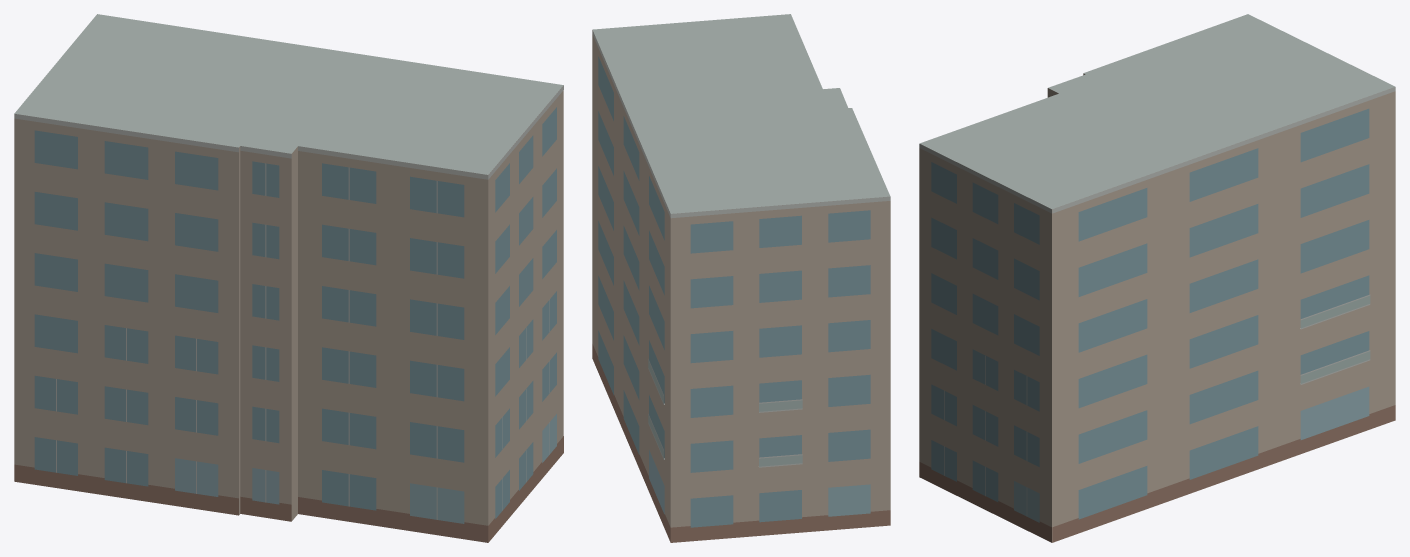
File: survey-upis-32789817.glb
3 renders of one model, left to right at view 1: azimuth 30°, elevation 25°; view 2: azimuth 150°, elevation 25°; view 3: azimuth 270°, elevation 25°, orthographic. The views are drawn at different scales.
Parts seen in each view (by area): view 1: survey-upis-32789817.tmp; view 2: survey-upis-32789817.tmp; view 3: survey-upis-32789817.tmp.
Boxes of the visible parts, x1,y1,x2,y2 form: survey-upis-32789817.tmp: (14,14,563,542); survey-upis-32789817.tmp: (592,14,890,542); survey-upis-32789817.tmp: (919,14,1395,542).
Bounding box in the file's own units: 23.49 × 18.7 × 24.21.
